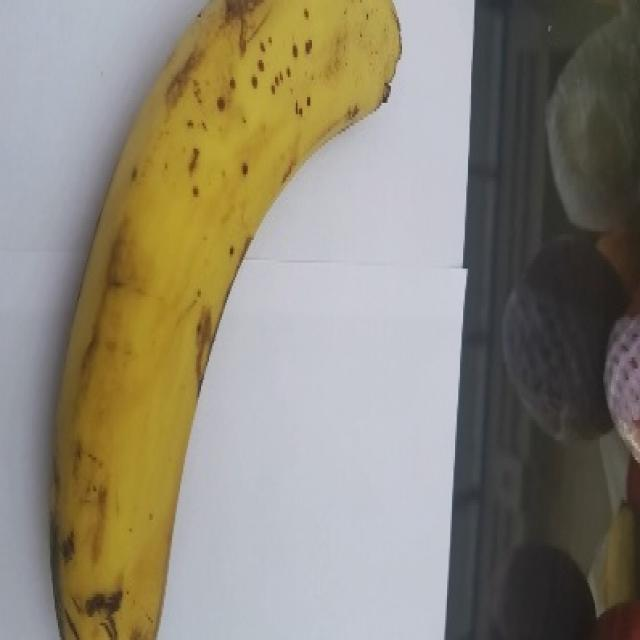Banana: (49, 0, 402, 638)
